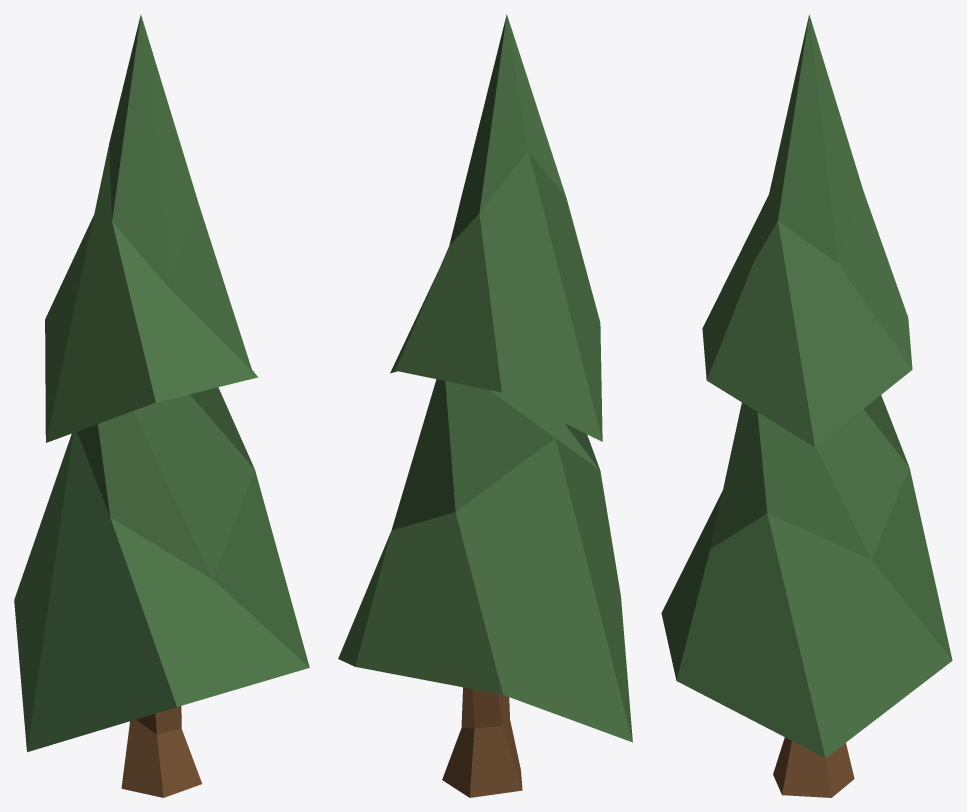
File: forest-spruce-b.glb
3 views of the same model, side by side, from view 1: azimuth 30°, elevation 25°; view 2: azimuth 150°, elevation 25°; view 3: azimuth 270°, elevation 25° (orthographic).
Parts seen in each view (by area): view 1: SpruceTree2; view 2: SpruceTree2; view 3: SpruceTree2.
Part boxes in pixels (left/top/right/bottom): SpruceTree2: left=14, top=14, right=309, bottom=797; SpruceTree2: left=338, top=14, right=632, bottom=797; SpruceTree2: left=661, top=14, right=952, bottom=797.
Bounding box in the file's own units: 2.12 × 5.56 × 1.93.
